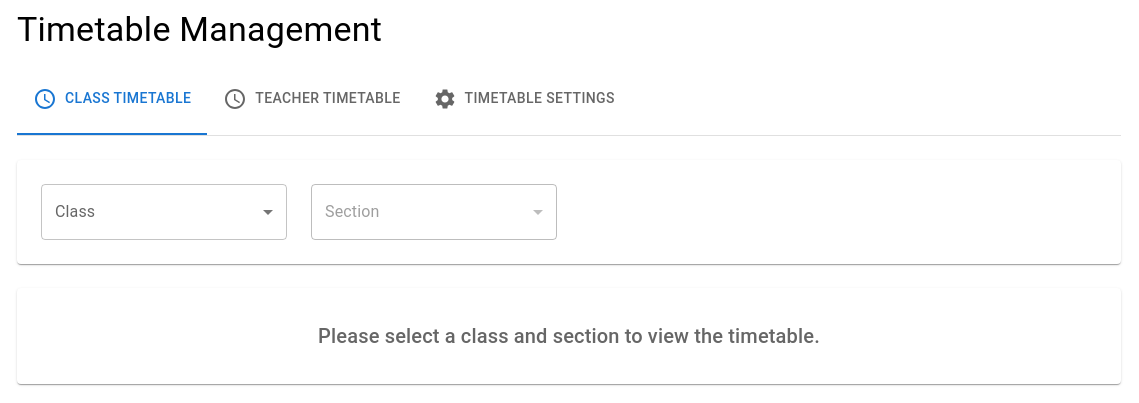
Test: TimeTable Component - Enhanced AI Testing Suite › Visual Regression Testing › should detect visual changes in edit mode
Note: Switch to teacher tab to trigger a visual change
Click the tab "Teacher Timetable" at (312, 99), box [207,63,417,135]
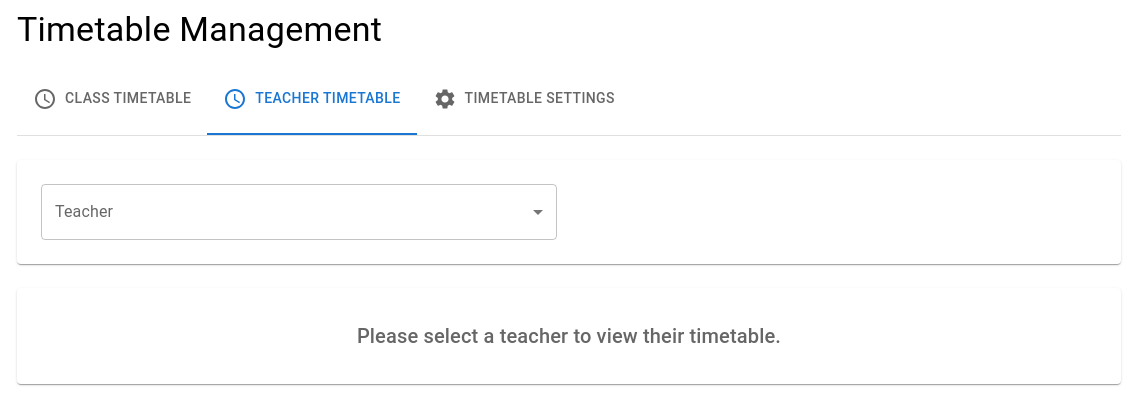
Result: the heading "Please select a teacher to view their timetable." is shown at [357,324,781,348]
